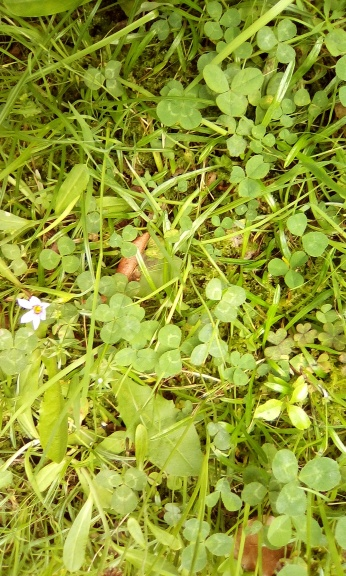4leaf: (155, 80, 210, 130), (93, 292, 142, 345), (222, 351, 255, 387)
